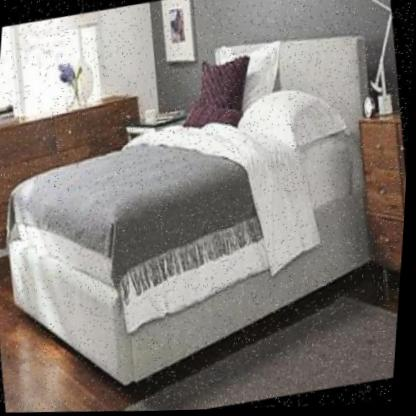Bed: (0, 8, 415, 416)
